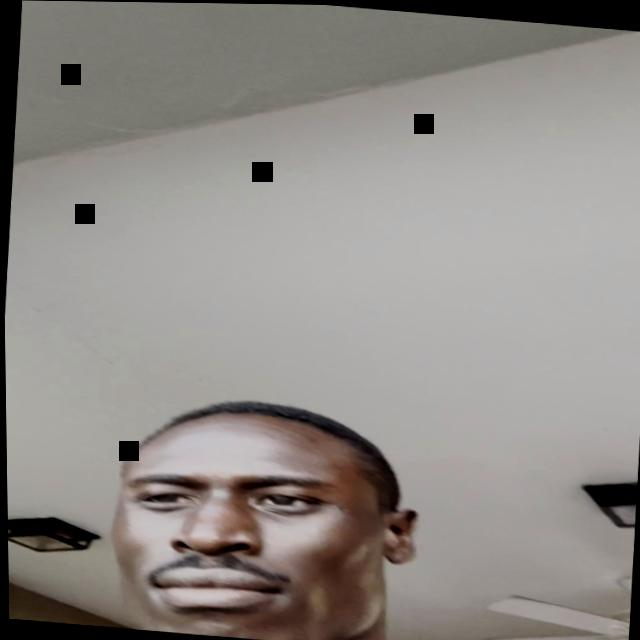NO-Mask: (82, 391, 412, 640)
